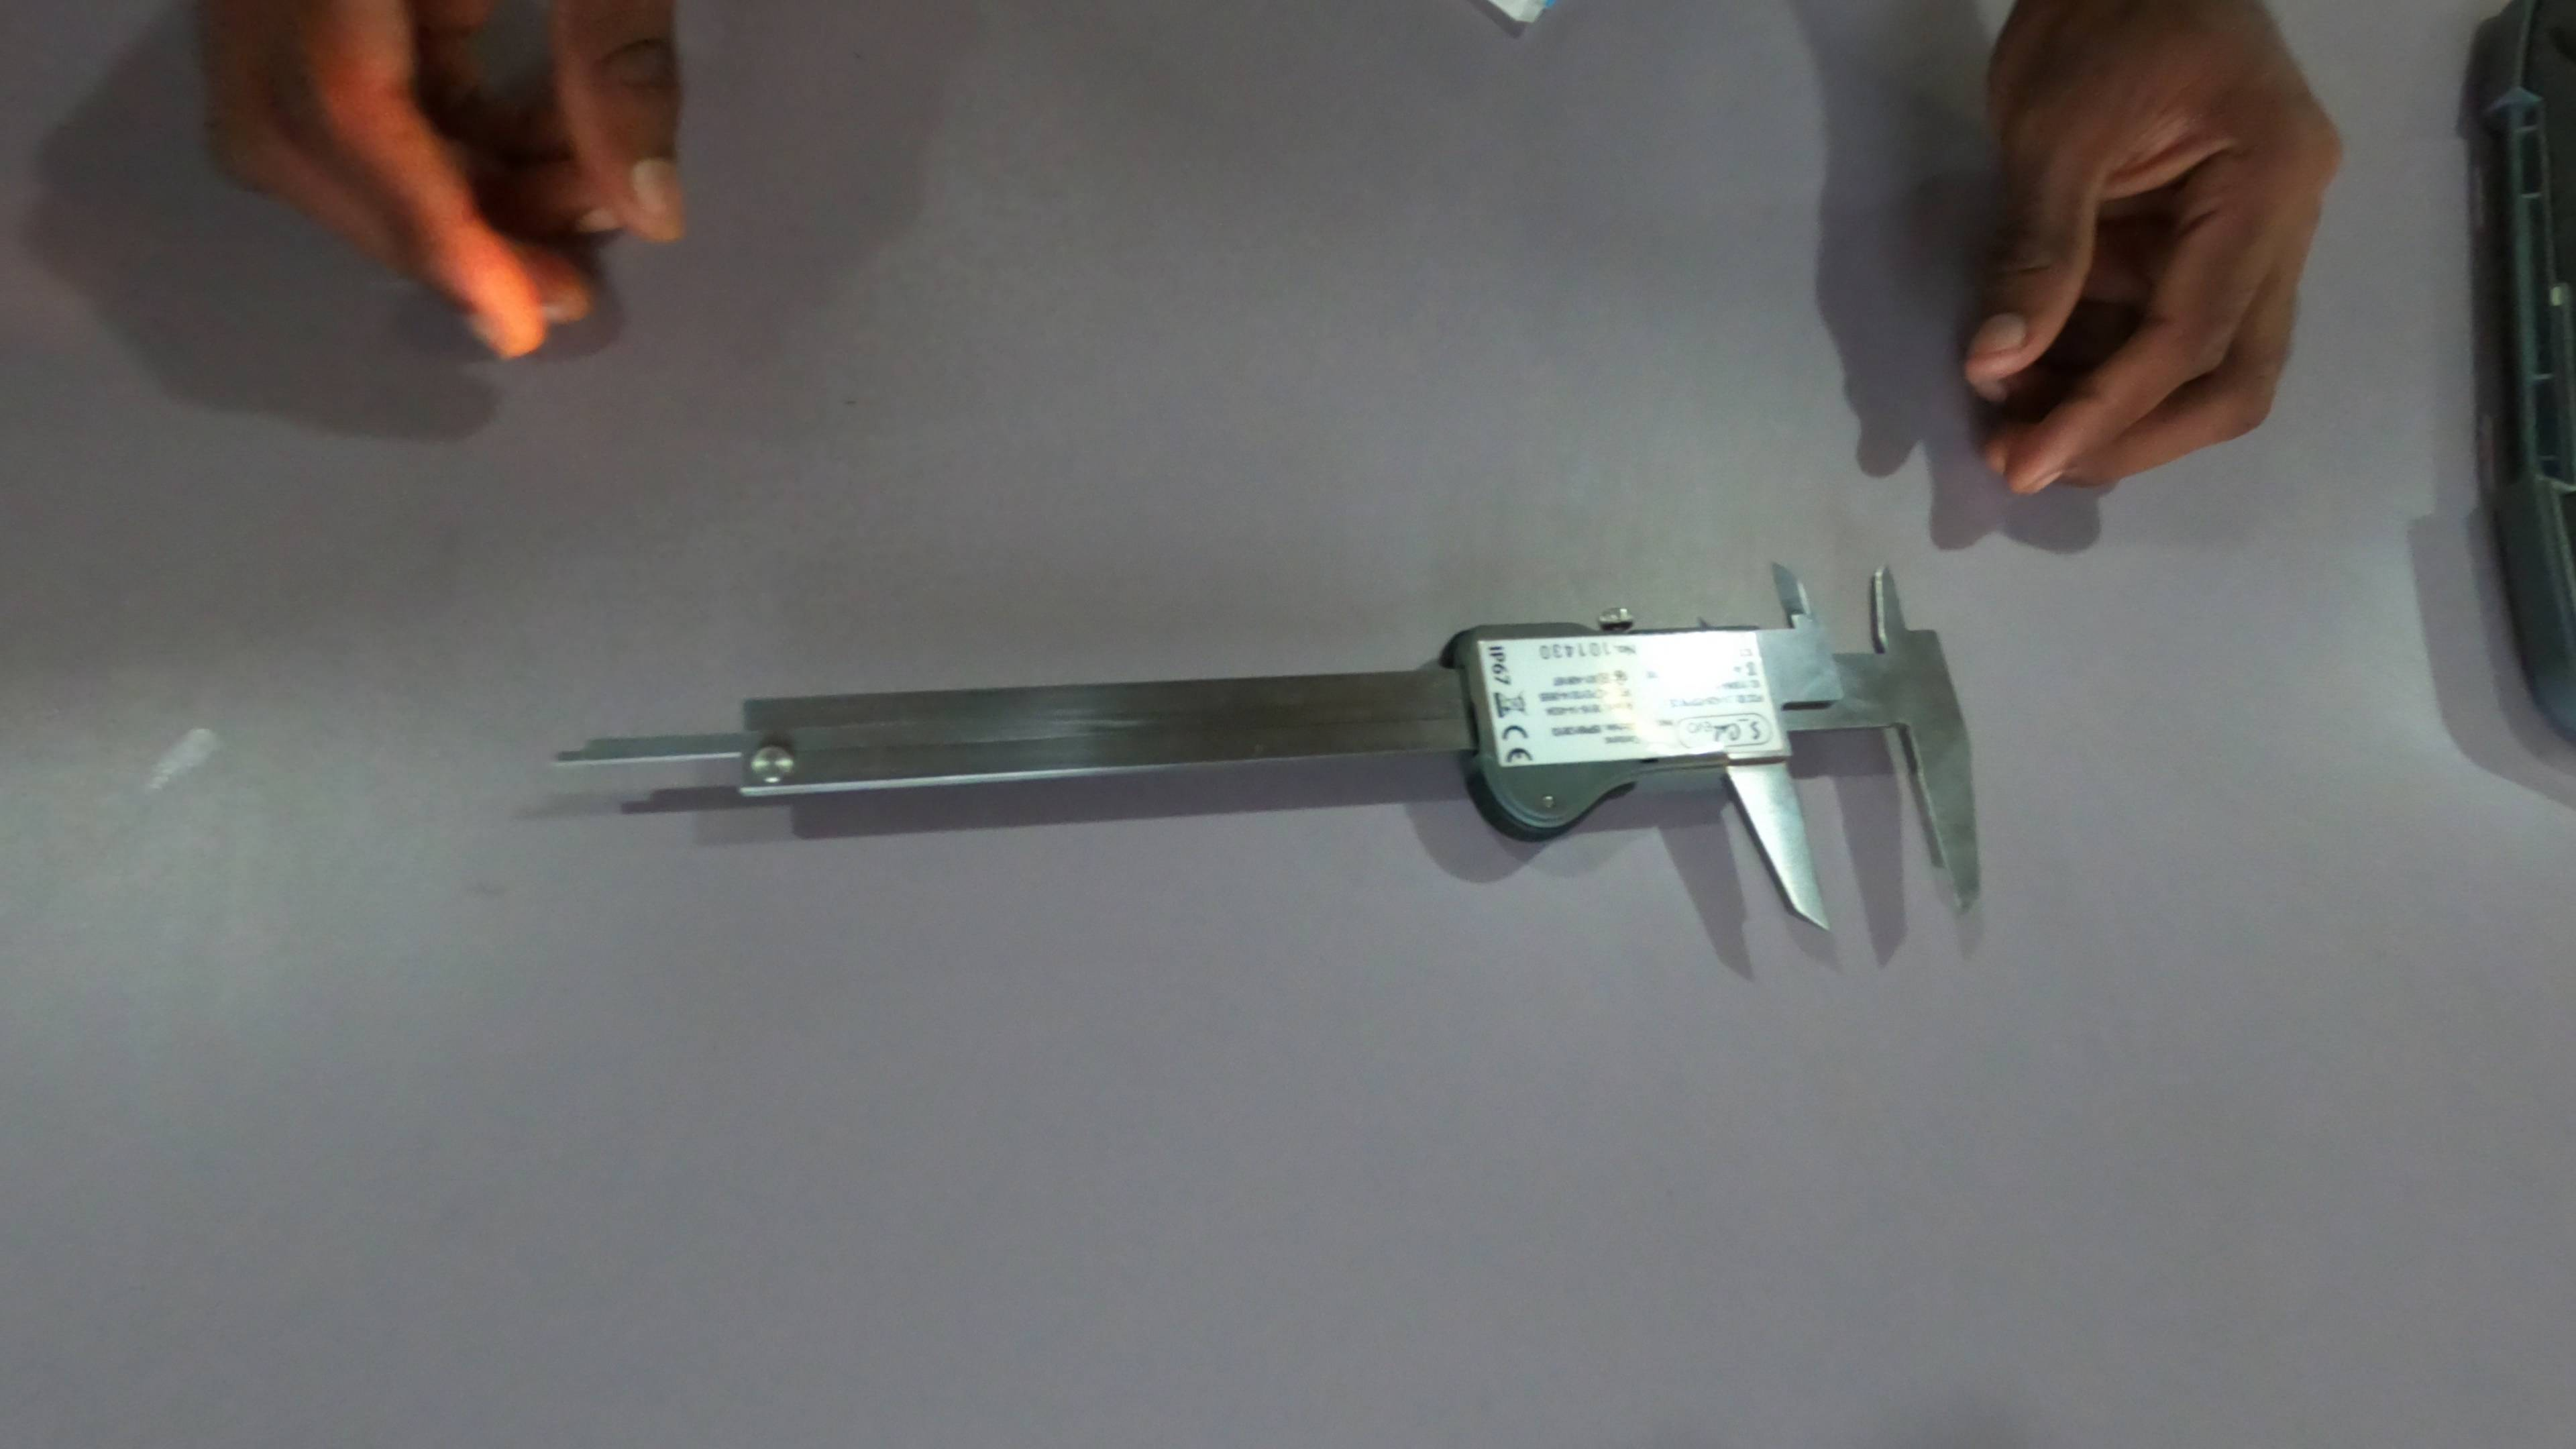vernier_caliper: (556, 563, 1987, 931)
